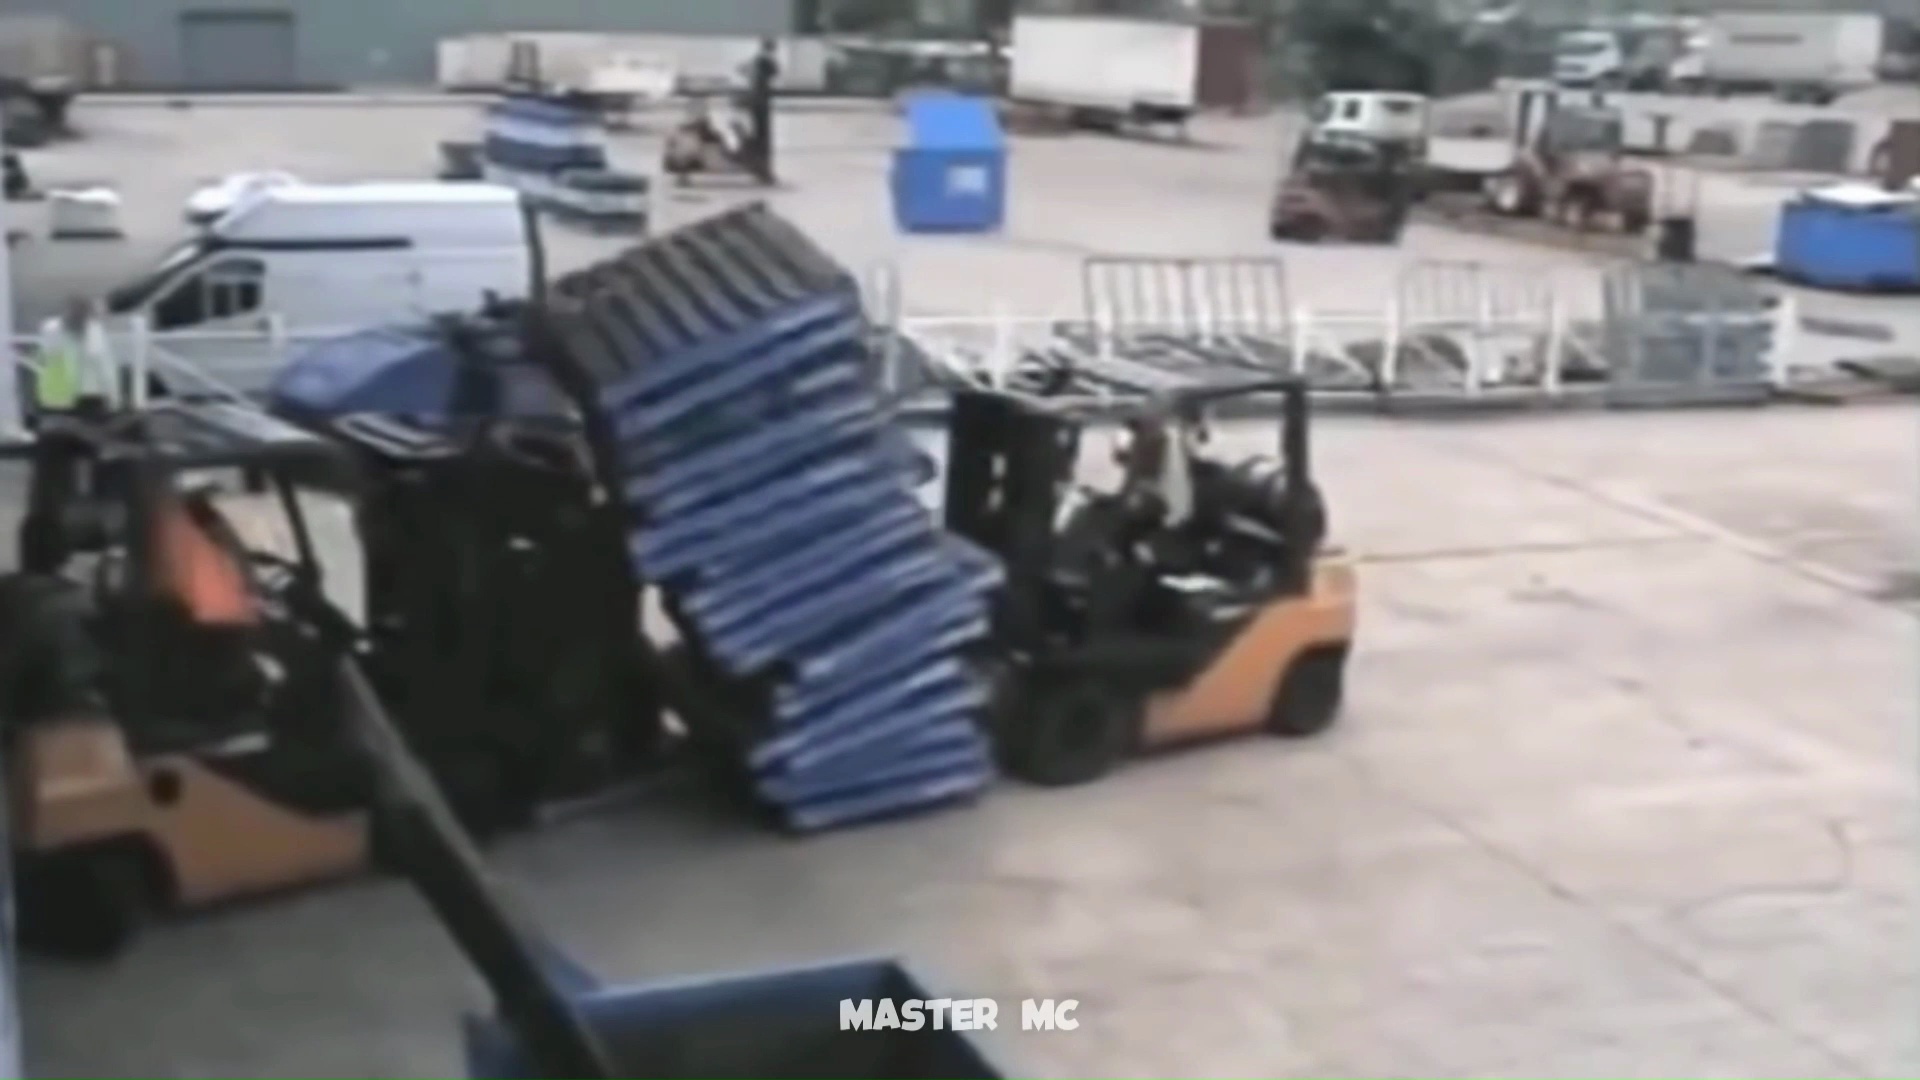forklift: (629, 229, 1365, 819), (3, 388, 758, 953)
